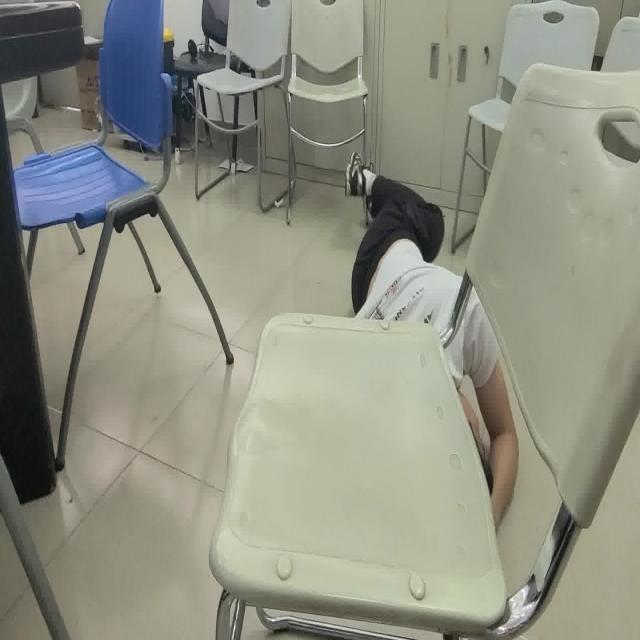fall: (342, 151, 518, 553)
